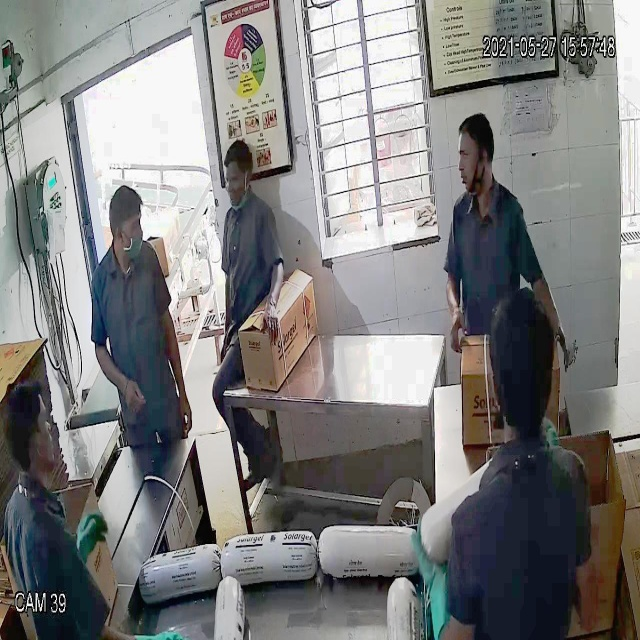Sin_gafas: (108, 212, 152, 244), (453, 139, 493, 172)
